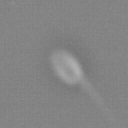normal: (79, 77, 122, 128)
